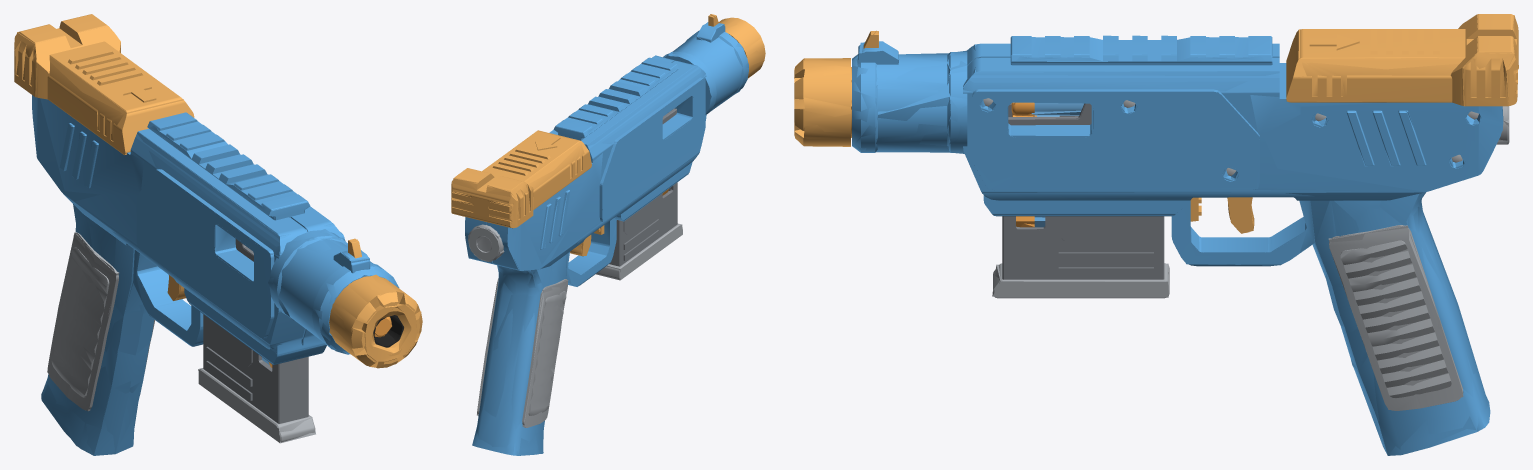
The model's file is foam.glb.
The picture shows the model from 3 angles, left to right: view 1: azimuth 30°, elevation 25°; view 2: azimuth 150°, elevation 25°; view 3: azimuth 270°, elevation 25°; orthographic projection. The views are drawn at different scales.
Parts seen in each view (by area): view 1: body, lod, mag, detail; view 2: body, lod, mag, detail; view 3: body, lod, mag, detail.
Boxes of the visible parts, x1,y1,x2,y2 form: body: (14, 14, 422, 455); lod: (14, 17, 421, 455); mag: (198, 239, 315, 442); detail: (51, 49, 156, 397); body: (451, 14, 765, 455); lod: (451, 14, 764, 455); mag: (596, 108, 682, 279); detail: (492, 135, 600, 415); body: (795, 14, 1518, 455); lod: (794, 14, 1518, 455); mag: (993, 102, 1169, 298); detail: (983, 29, 1478, 397).
Size of the model in its own units: 0.0515 by 0.2206 by 0.3491.
